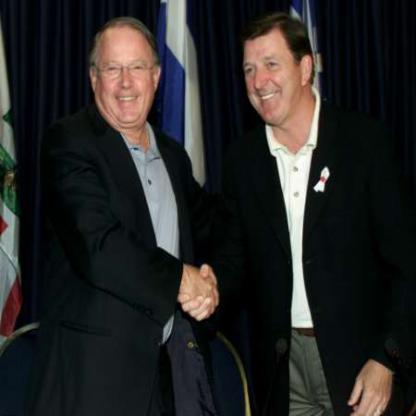face: (242, 18, 303, 127), (98, 20, 156, 129)
